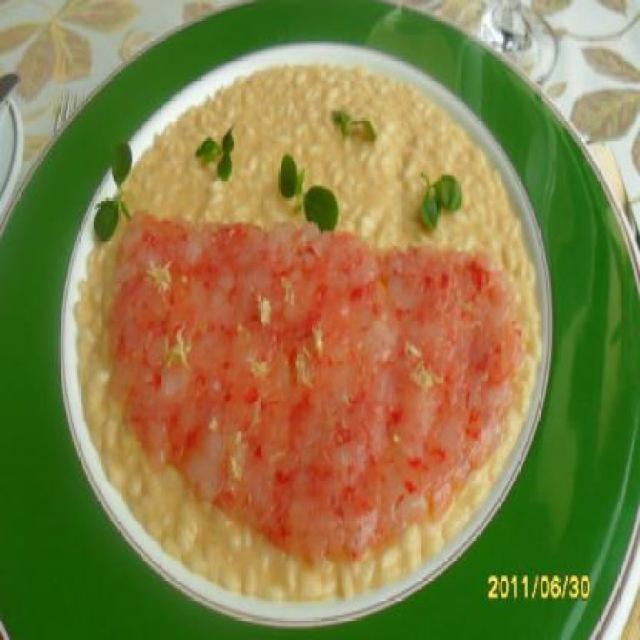Risotto: (106, 61, 526, 584)
